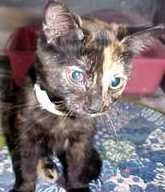Cat: (14, 0, 163, 191)
